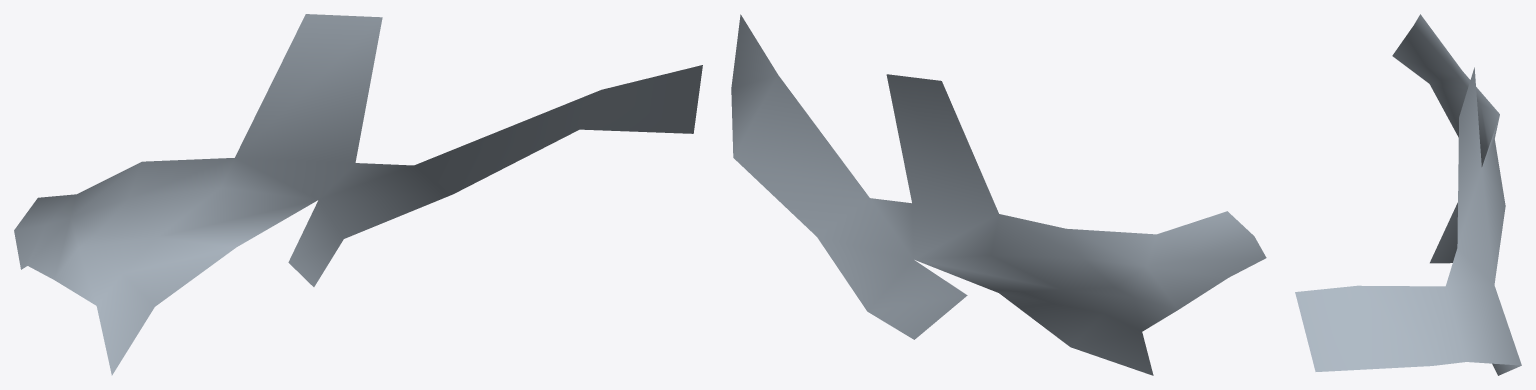
The model's file is dorsal-intercarpal-ligaments-l.glb.
3 renders of one model, left to right at view 1: azimuth 30°, elevation 25°; view 2: azimuth 150°, elevation 25°; view 3: azimuth 270°, elevation 25°, orthographic. The views are drawn at different scales.
Parts seen in each view (by area): view 1: Dorsal intercarpal ligaments.l; view 2: Dorsal intercarpal ligaments.l; view 3: Dorsal intercarpal ligaments.l.
Part boxes in pixels (<box>): Dorsal intercarpal ligaments.l: <box>14,14,702,375</box>; Dorsal intercarpal ligaments.l: <box>731,14,1266,375</box>; Dorsal intercarpal ligaments.l: <box>1295,14,1521,375</box>.
Bounding box in the file's own units: 0.0389 × 0.0172 × 0.0115.
